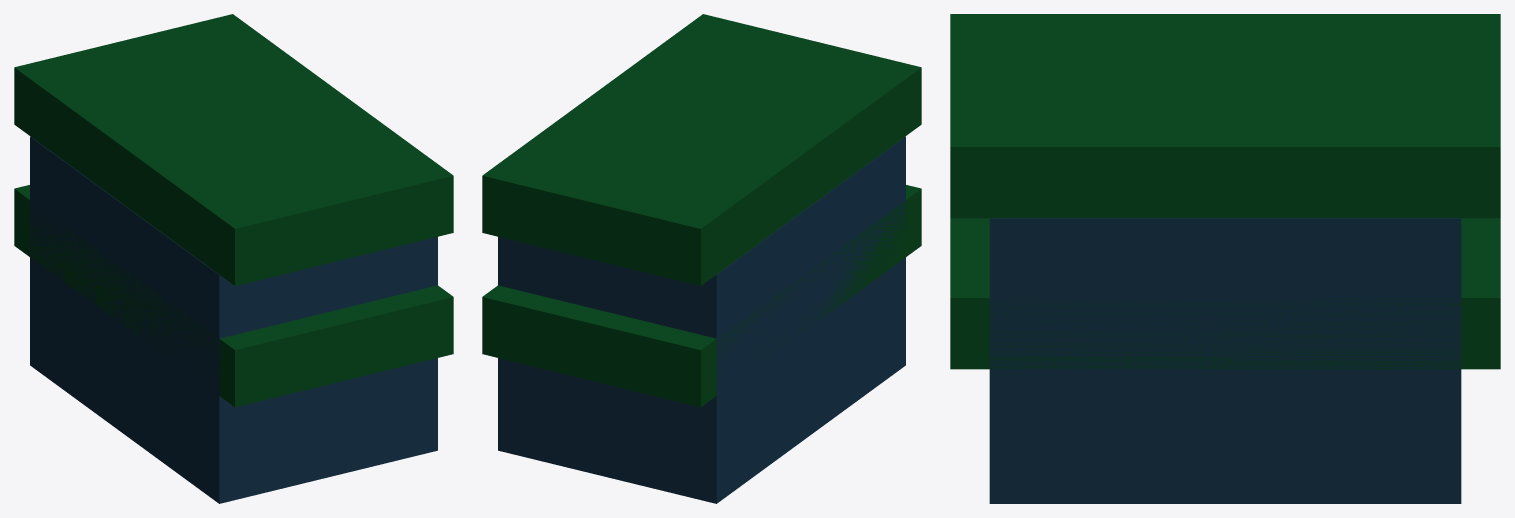
File: wall2.fbx
3 renders of one model, left to right at view 1: azimuth 30°, elevation 25°; view 2: azimuth 150°, elevation 25°; view 3: azimuth 270°, elevation 25°, orthographic. The views are drawn at different scales.
Parts seen in each view (by area): view 1: Cube (3), Cube, Cube (2); view 2: Cube (3), Cube, Cube (2); view 3: Cube (3), Cube, Cube (2).
Part boxes in pixels (x1,y1,x2,y2): Cube (3): [30, 136, 437, 503]; Cube: [14, 14, 453, 285]; Cube (2): [14, 185, 453, 407]; Cube (3): [498, 136, 905, 503]; Cube: [482, 14, 921, 285]; Cube (2): [482, 185, 921, 407]; Cube (3): [989, 218, 1461, 503]; Cube: [950, 14, 1500, 218]; Cube (2): [950, 218, 1500, 369].
Size of the model in its own units: 200 by 251 by 350.
